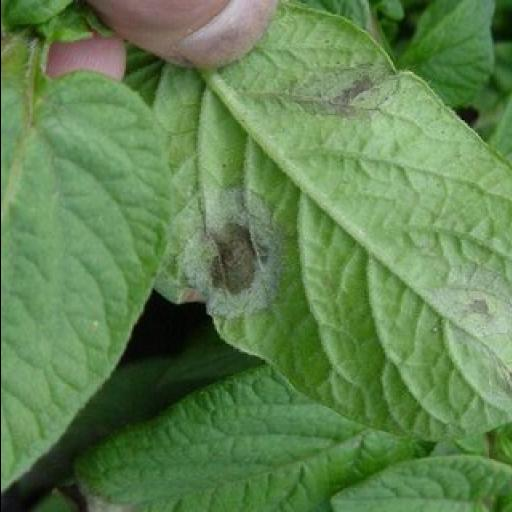disease_tomato: (146, 3, 510, 443)
